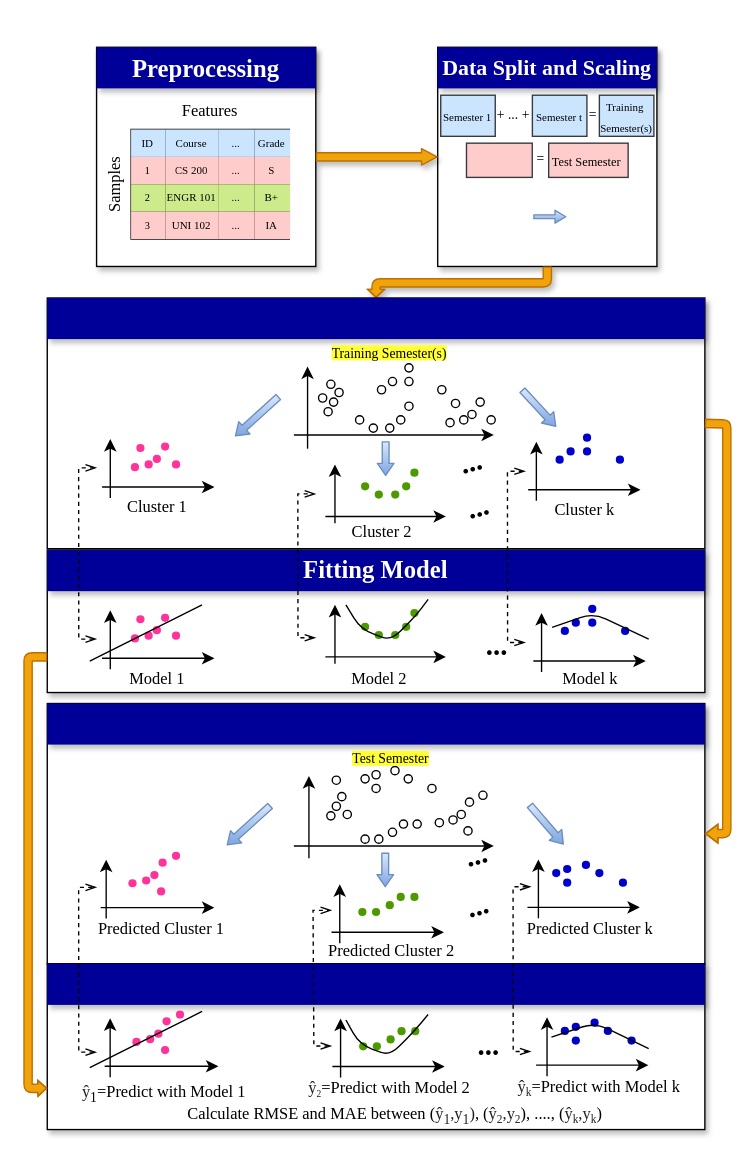
The diagram is 755 pixels wide and 1163 high, and some of its shapes have lost their labels. Each missing label, with the centre of its shape:
Fitting Clusters (number of clusters = k): (x=376, y=320)
Predicting Cluster Labels: (x=376, y=725)
Predicting Letter Grade: (x=376, y=986)
Semester t+1: (x=498, y=159)
